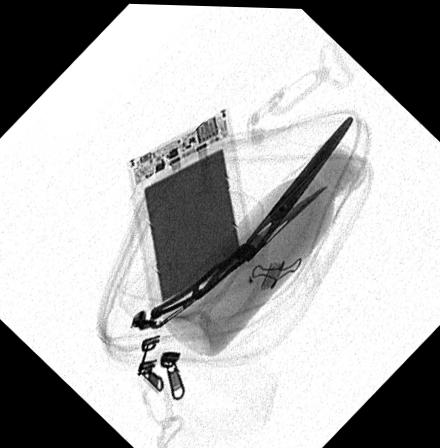Knife: (146, 182, 329, 328)
Powerbank: (127, 104, 255, 319)
Scissors: (163, 114, 357, 332)
